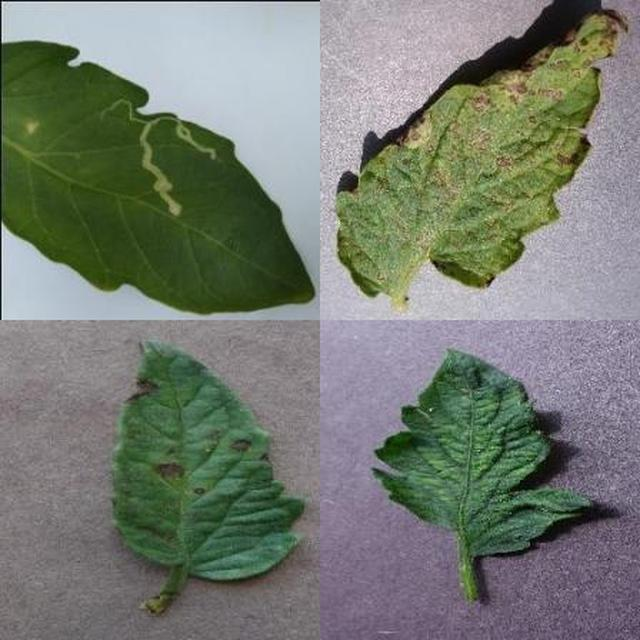Leaf Miner: (224, 218, 640, 640)
